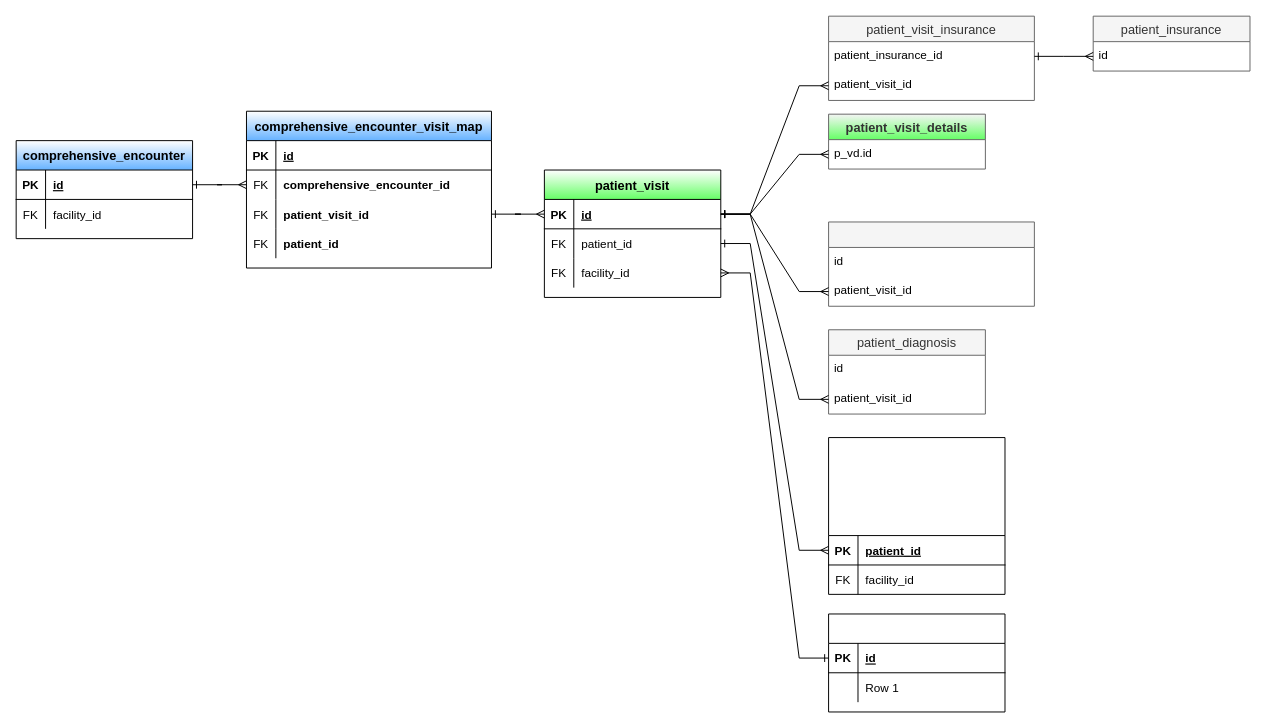
This 1266x728 diagram has some shape labels left out. Each missing label, with the box of its shape:
facility: (828, 613, 1005, 712)
patient _race _ethnicity _language _marital_status _diability: (828, 437, 1005, 594)
patient_visit_pds_care_provider: (828, 221, 1034, 306)
